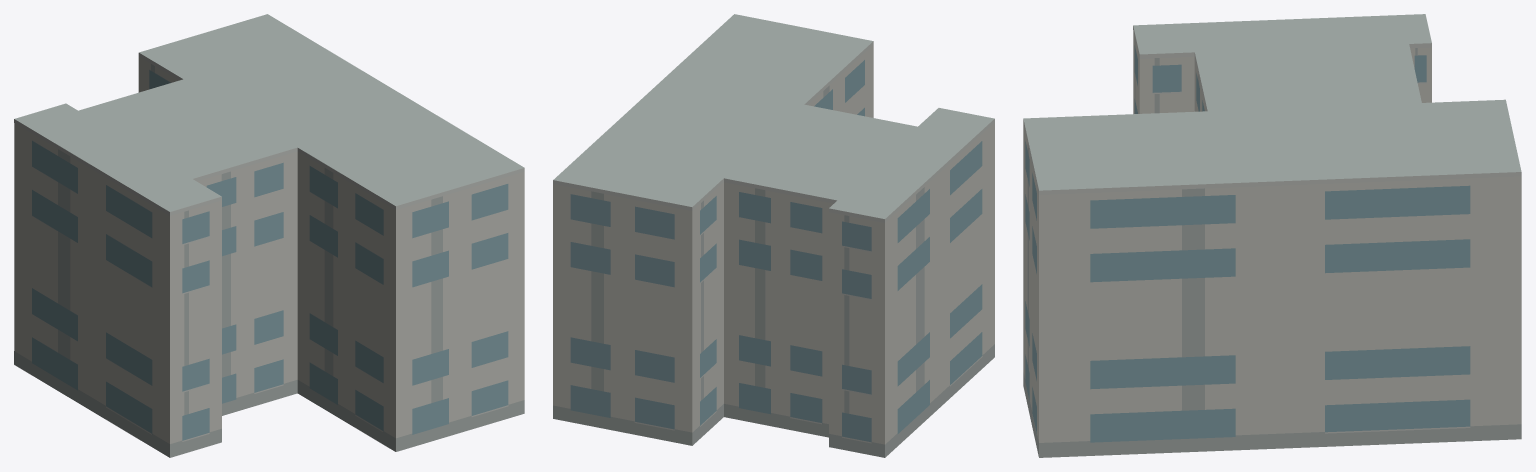
Rendered from residential-b0b3f29f-4c85-4de0-aec9-4c35fb284512.glb.
3 views of the same model, side by side, from view 1: azimuth 30°, elevation 25°; view 2: azimuth 150°, elevation 25°; view 3: azimuth 270°, elevation 25° (orthographic). The views are drawn at different scales.
Visible parts, largest first — view 1: residential-b0b3f29f-4c85-4de0-aec9-4c35fb284512.tmp; view 2: residential-b0b3f29f-4c85-4de0-aec9-4c35fb284512.tmp; view 3: residential-b0b3f29f-4c85-4de0-aec9-4c35fb284512.tmp.
Part boxes in pixels (x1,y1,x2,y2): residential-b0b3f29f-4c85-4de0-aec9-4c35fb284512.tmp: (14, 14, 524, 457); residential-b0b3f29f-4c85-4de0-aec9-4c35fb284512.tmp: (553, 14, 994, 457); residential-b0b3f29f-4c85-4de0-aec9-4c35fb284512.tmp: (1023, 14, 1521, 457).
Size of the model in its own units: 21.62 by 15.25 by 25.77.
